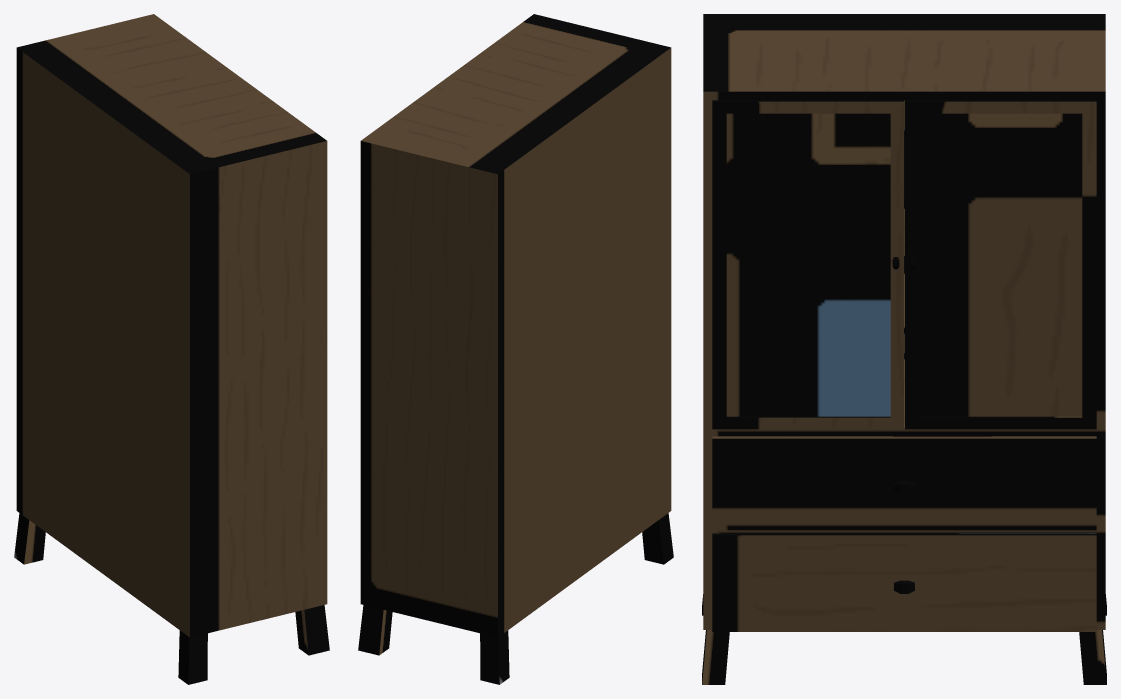
Rendered from Wardrobe3.fbx.
The picture shows the model from 3 angles, left to right: view 1: azimuth 30°, elevation 25°; view 2: azimuth 150°, elevation 25°; view 3: azimuth 270°, elevation 25°; orthographic projection. The views are drawn at different scales.
Parts seen in each view (by area): view 1: wardrobe3.001; view 2: wardrobe3.001; view 3: wardrobe3.001.
Boxes of the visible parts, x1,y1,x2,y2 form: wardrobe3.001: (14, 14, 329, 684); wardrobe3.001: (358, 14, 673, 684); wardrobe3.001: (702, 14, 1106, 684).
Bounding box in the file's own units: 69.89 × 223 × 138.
Materials: 1 (1 with a texture image).
